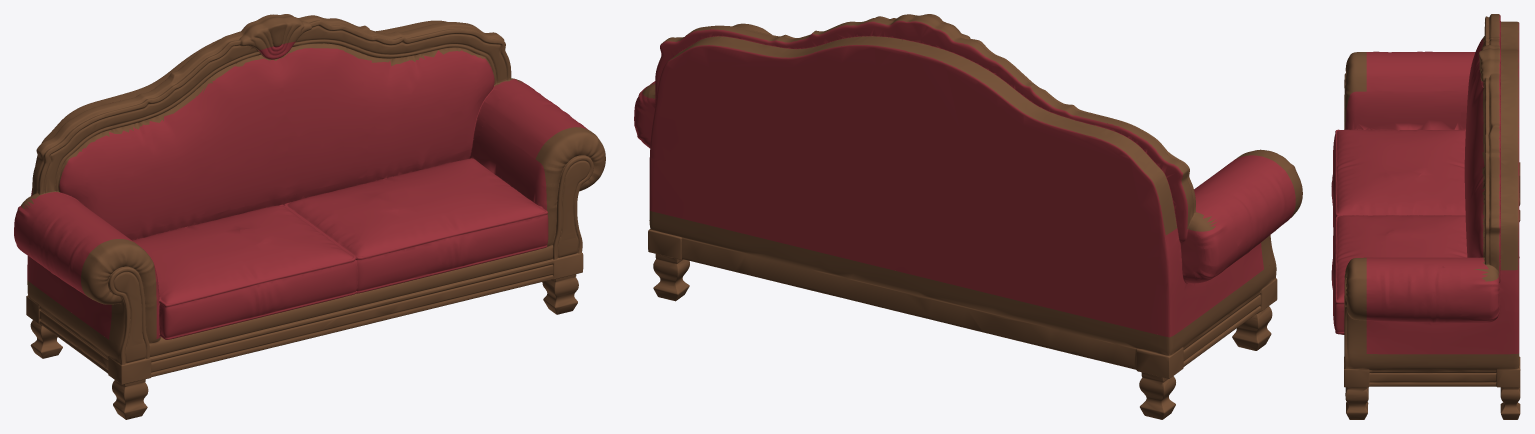
Rendered from Sofa_Parts.glb.
3 renders of one model, left to right at view 1: azimuth 30°, elevation 25°; view 2: azimuth 150°, elevation 25°; view 3: azimuth 270°, elevation 25°, orthographic. The views are drawn at different scales.
Parts seen in each view (by area): view 1: Sofa_BackPanel, Sofa_Seat_R, Sofa_Seat_L, Sofa_Base, Sofa_BackFrame, Sofa_Arm_L, Sofa_ArmFront_L, Sofa_ArmFront_R, Sofa_Arm_R, Sofa_Crest, Sofa_Leg_FL, Sofa_Leg_FR (+1 smaller); view 2: Sofa_BackRear, Sofa_Base, Sofa_Arm_L, Sofa_BackFrame, Sofa_Crest, Sofa_Leg_BL, Sofa_Leg_BR, Sofa_Leg_FL, Sofa_ArmFront_L; view 3: Sofa_Seat_L, Sofa_Arm_R, Sofa_BackFrame, Sofa_Seat_R, Sofa_Base, Sofa_Arm_L, Sofa_BackPanel, Sofa_ArmFront_R, Sofa_Crest, Sofa_BackRear, Sofa_ArmFront_L, Sofa_Leg_FR (+1 smaller).
Boxes of the visible parts, x1,y1,x2,y2 form: Sofa_BackPanel: [24, 41, 526, 234]; Sofa_Seat_R: [284, 122, 548, 293]; Sofa_Seat_L: [125, 197, 357, 339]; Sofa_Base: [26, 236, 583, 384]; Sofa_BackFrame: [21, 20, 523, 208]; Sofa_Arm_L: [14, 184, 133, 339]; Sofa_ArmFront_L: [81, 239, 156, 347]; Sofa_ArmFront_R: [535, 127, 605, 243]; Sofa_Arm_R: [477, 79, 588, 158]; Sofa_Crest: [193, 14, 346, 60]; Sofa_Leg_FL: [108, 374, 163, 419]; Sofa_Leg_FR: [541, 272, 582, 314]; Sofa_BackRear: [638, 20, 1205, 337]; Sofa_Base: [648, 211, 1277, 378]; Sofa_Arm_L: [1164, 155, 1295, 336]; Sofa_BackFrame: [642, 24, 1216, 234]; Sofa_Crest: [837, 14, 1010, 68]; Sofa_Leg_BL: [1129, 355, 1199, 419]; Sofa_Leg_BR: [648, 251, 689, 301]; Sofa_Leg_FL: [1232, 300, 1276, 350]; Sofa_ArmFront_L: [1236, 149, 1302, 268]; Sofa_Seat_L: [1331, 91, 1466, 231]; Sofa_Arm_R: [1366, 242, 1518, 354]; Sofa_BackFrame: [1474, 14, 1518, 281]; Sofa_Seat_R: [1331, 215, 1467, 334]; Sofa_Base: [1342, 162, 1520, 386]; Sofa_Arm_L: [1366, 51, 1475, 91]; Sofa_BackPanel: [1461, 38, 1488, 277]; Sofa_ArmFront_R: [1344, 257, 1366, 353]; Sofa_Crest: [1478, 38, 1518, 106]; Sofa_BackRear: [1498, 14, 1519, 353]; Sofa_ArmFront_L: [1344, 52, 1366, 129]; Sofa_Leg_FR: [1344, 386, 1379, 419].
Size of the model in its own units: 2.05 by 1.1 by 0.701.
